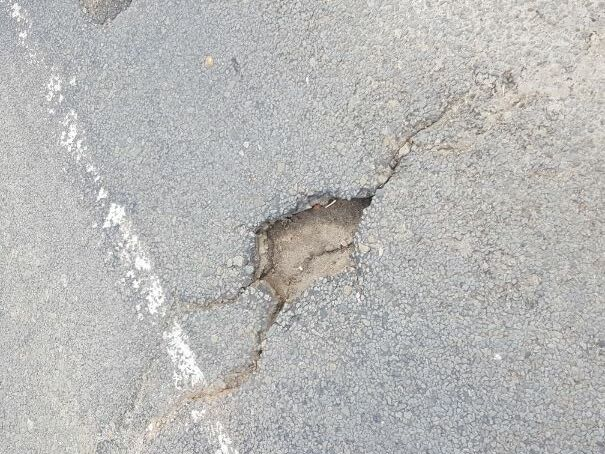pothole: (239, 181, 380, 316)
